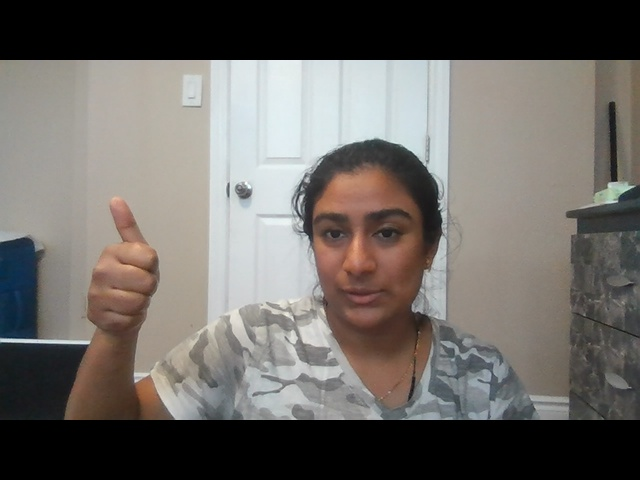yes: (81, 191, 165, 341)
